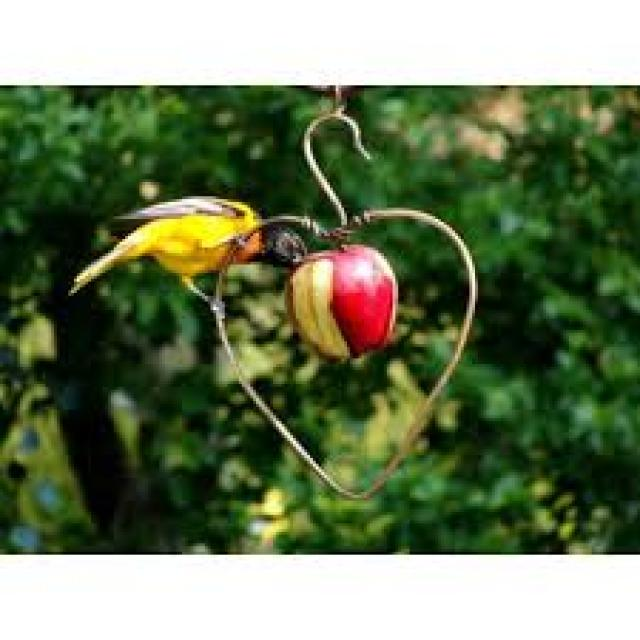Organik: (70, 188, 297, 294), (282, 245, 406, 363)
